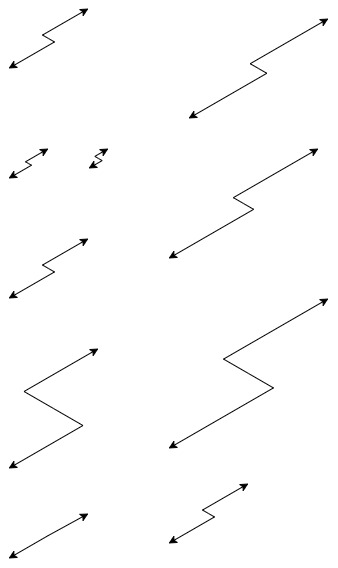bi_isonomic: (164, 295, 331, 459), (164, 144, 324, 267), (183, 15, 332, 123), (6, 344, 102, 469), (163, 479, 253, 551), (6, 2, 90, 78), (6, 235, 88, 304), (6, 143, 52, 179), (88, 145, 114, 171)
